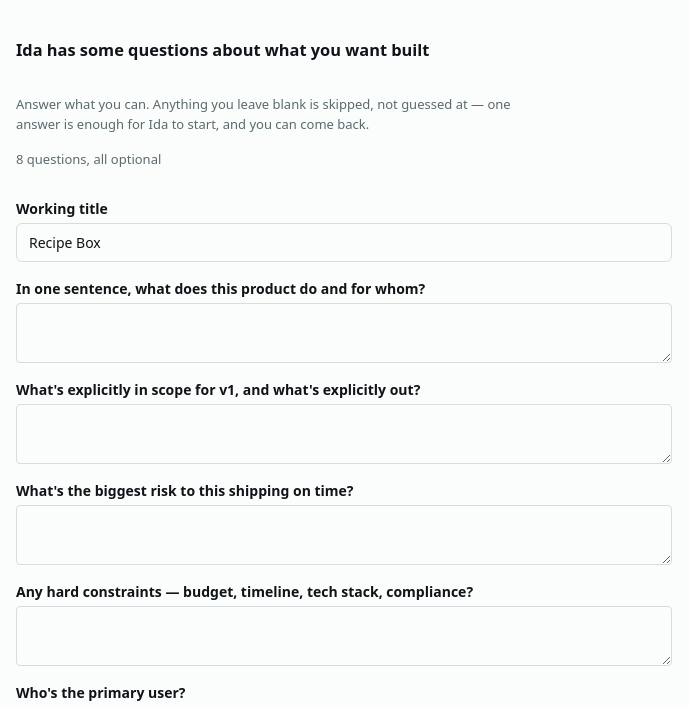
Scenario: a failed run speaks novice first (W16-06) › a connection failure blames the server being unreachable, not the person
Type "A thing that does a thing." into the text box with test id "interview-answer-docs/VISION.md" at [344, 333], box 16,303 -> 672,363
(page scrolled)
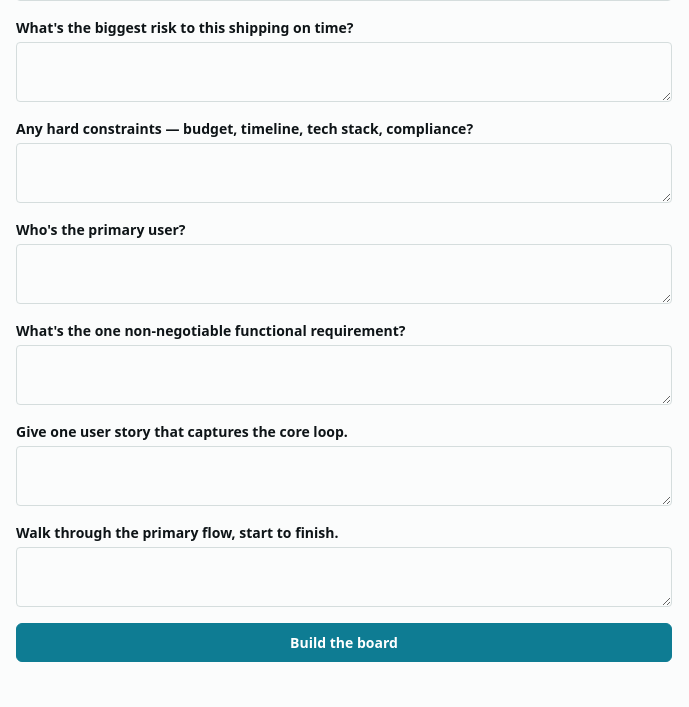
Click the button with test id "interview-run" at [344, 642], box 16,623 -> 672,662
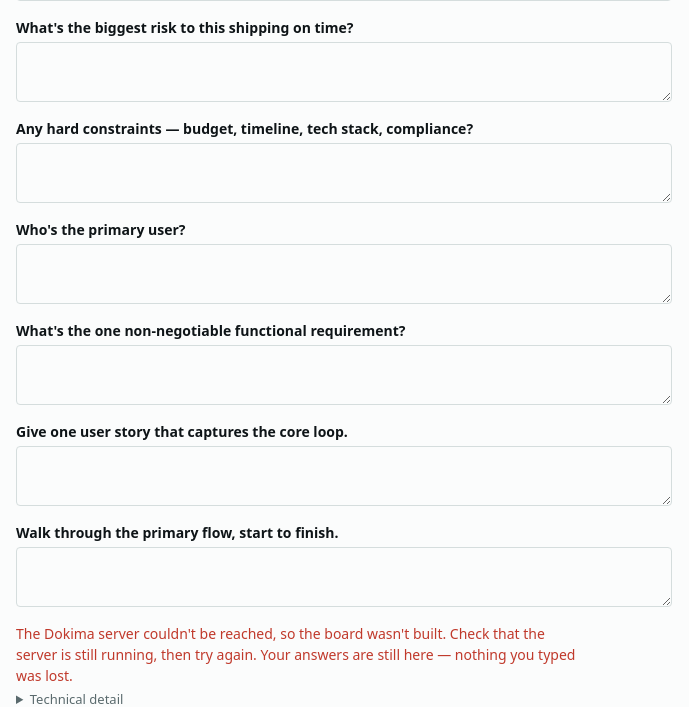
Result: the message with test id "interview-error" shows "couldn't be reached" at 16,624 -> 575,685
